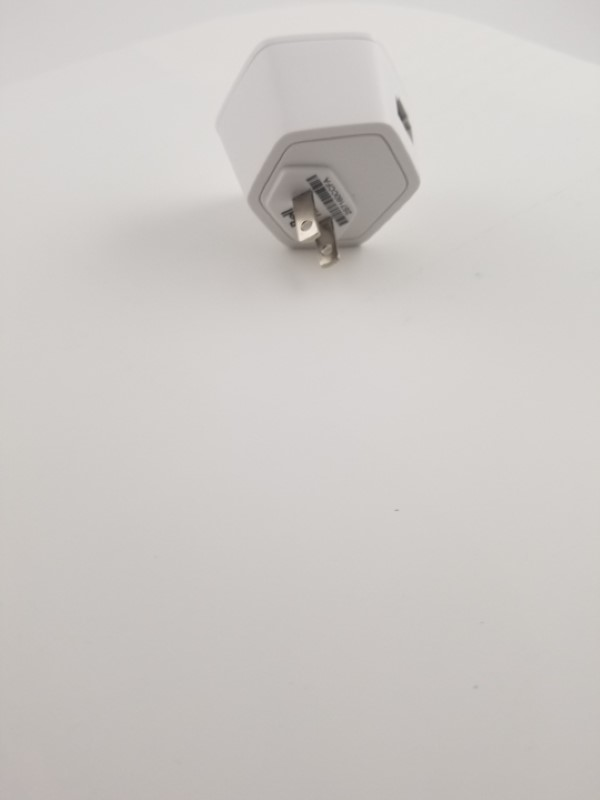pod: (214, 28, 434, 271)
